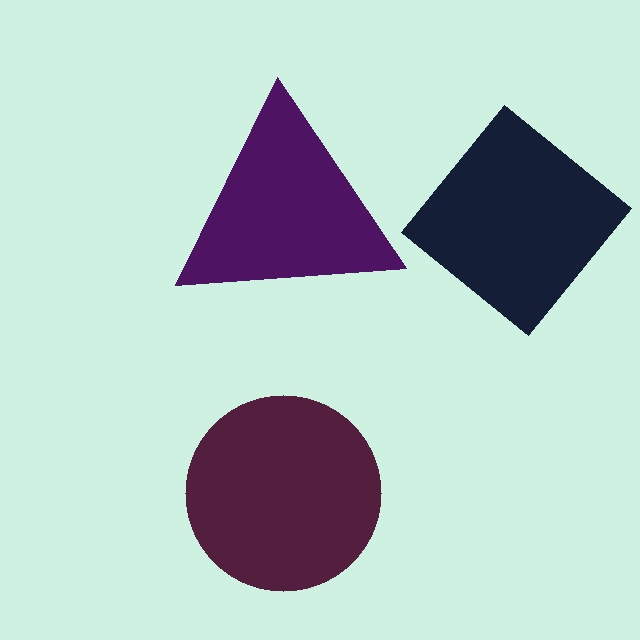circle: (185, 394, 382, 591)
square: (400, 104, 632, 336)
triangle: (174, 77, 406, 286)
